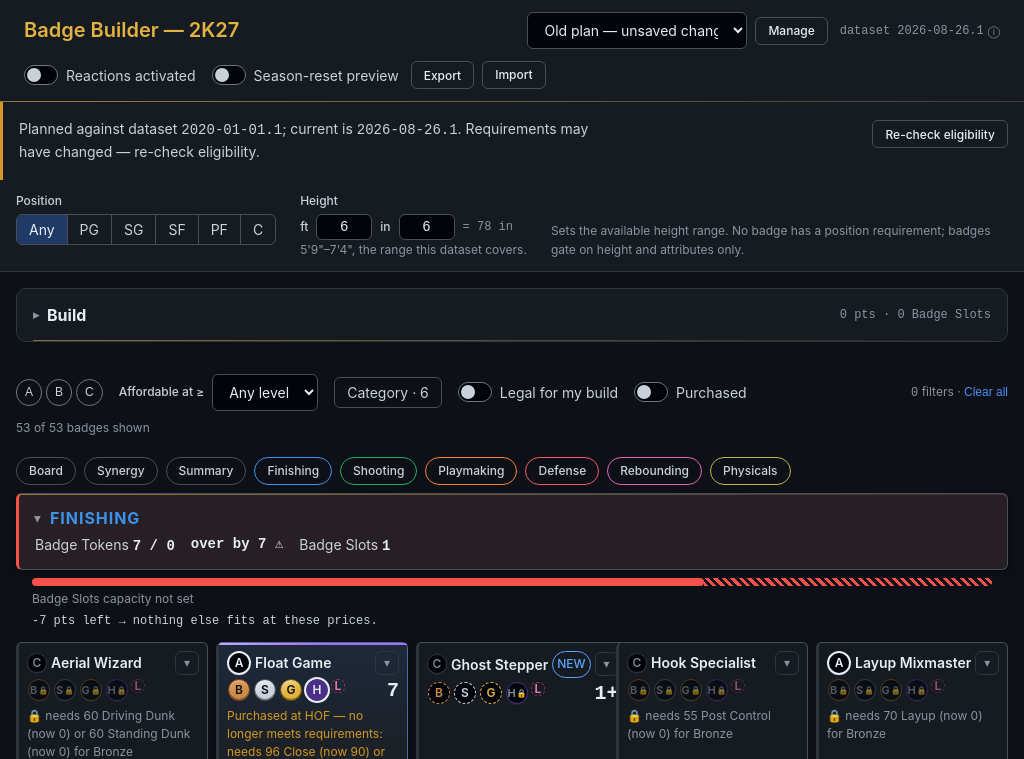
it: DriftBanner (H8): dataVersion mismatch on load › renders the non-blocking banner and recomputes on demand
Expected: the text "Planned against dataset" shows "2020-01-01.1", x1=181 y1=122 x2=282 y2=138
Click the button "Re-check eligibility": coordinates (940, 134) x1=872 y1=120 x2=1008 y2=148
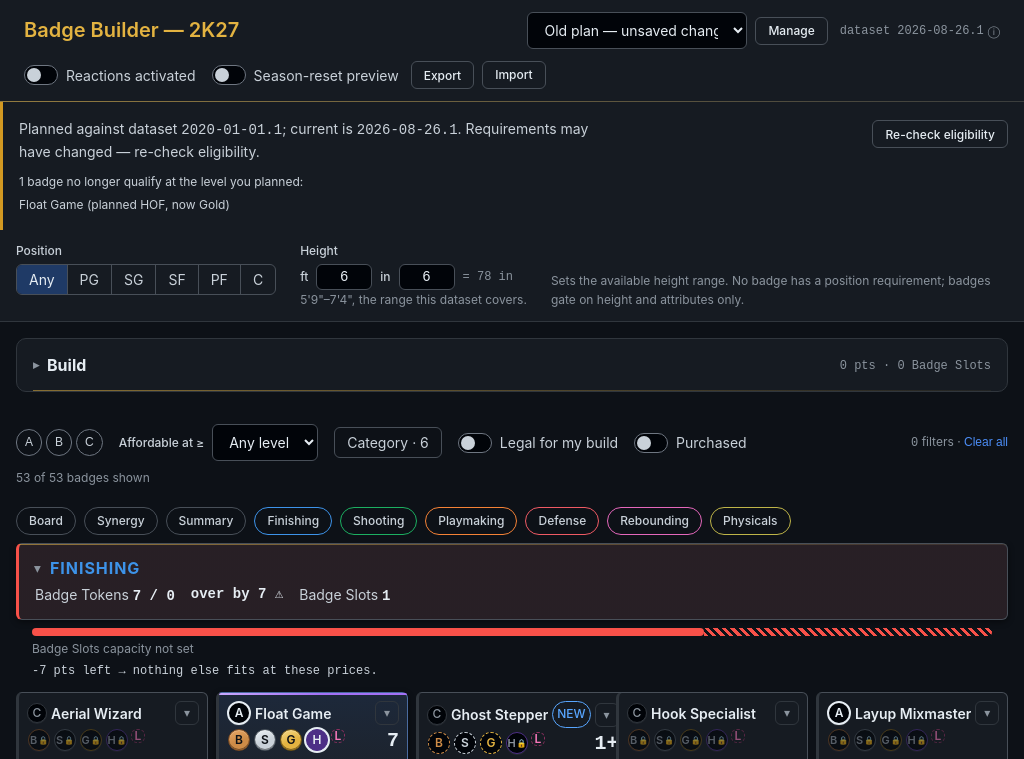
Expected: the radio button named "HOF, current level" is checked, x1=305 y1=729 x2=329 y2=753
Expected: the text "Float Game (planned HOF, now Gold)" is shown, x1=19 y1=197 x2=230 y2=212
